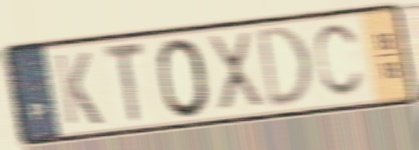C: (312, 20, 367, 102)
D: (256, 22, 316, 113)
K: (51, 49, 106, 128)
O: (154, 35, 214, 120)
T: (102, 38, 148, 128)
X: (205, 28, 269, 113)
